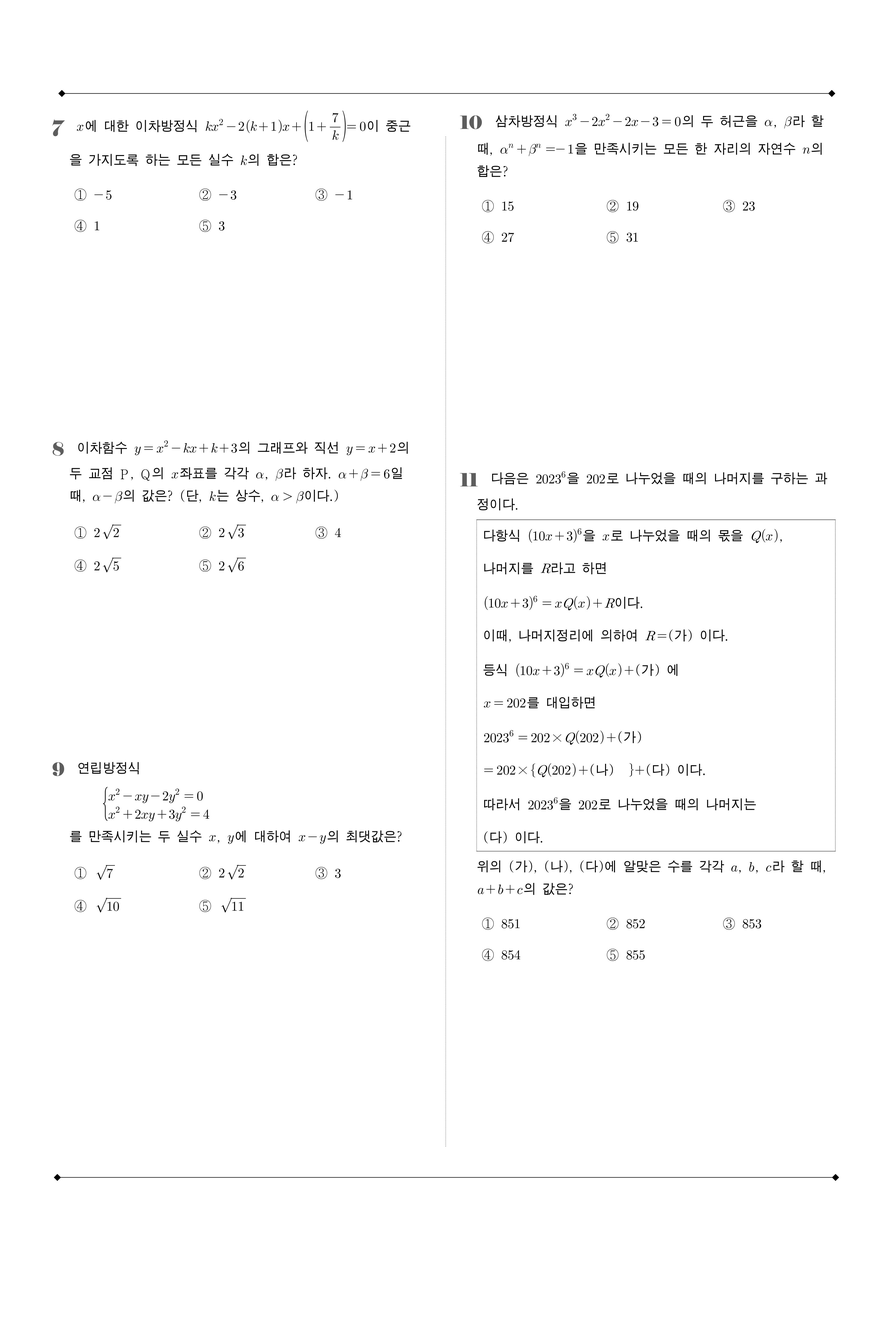problem: (450, 459, 842, 977), (40, 746, 434, 931), (42, 420, 432, 591), (37, 101, 434, 253), (455, 106, 845, 250)
